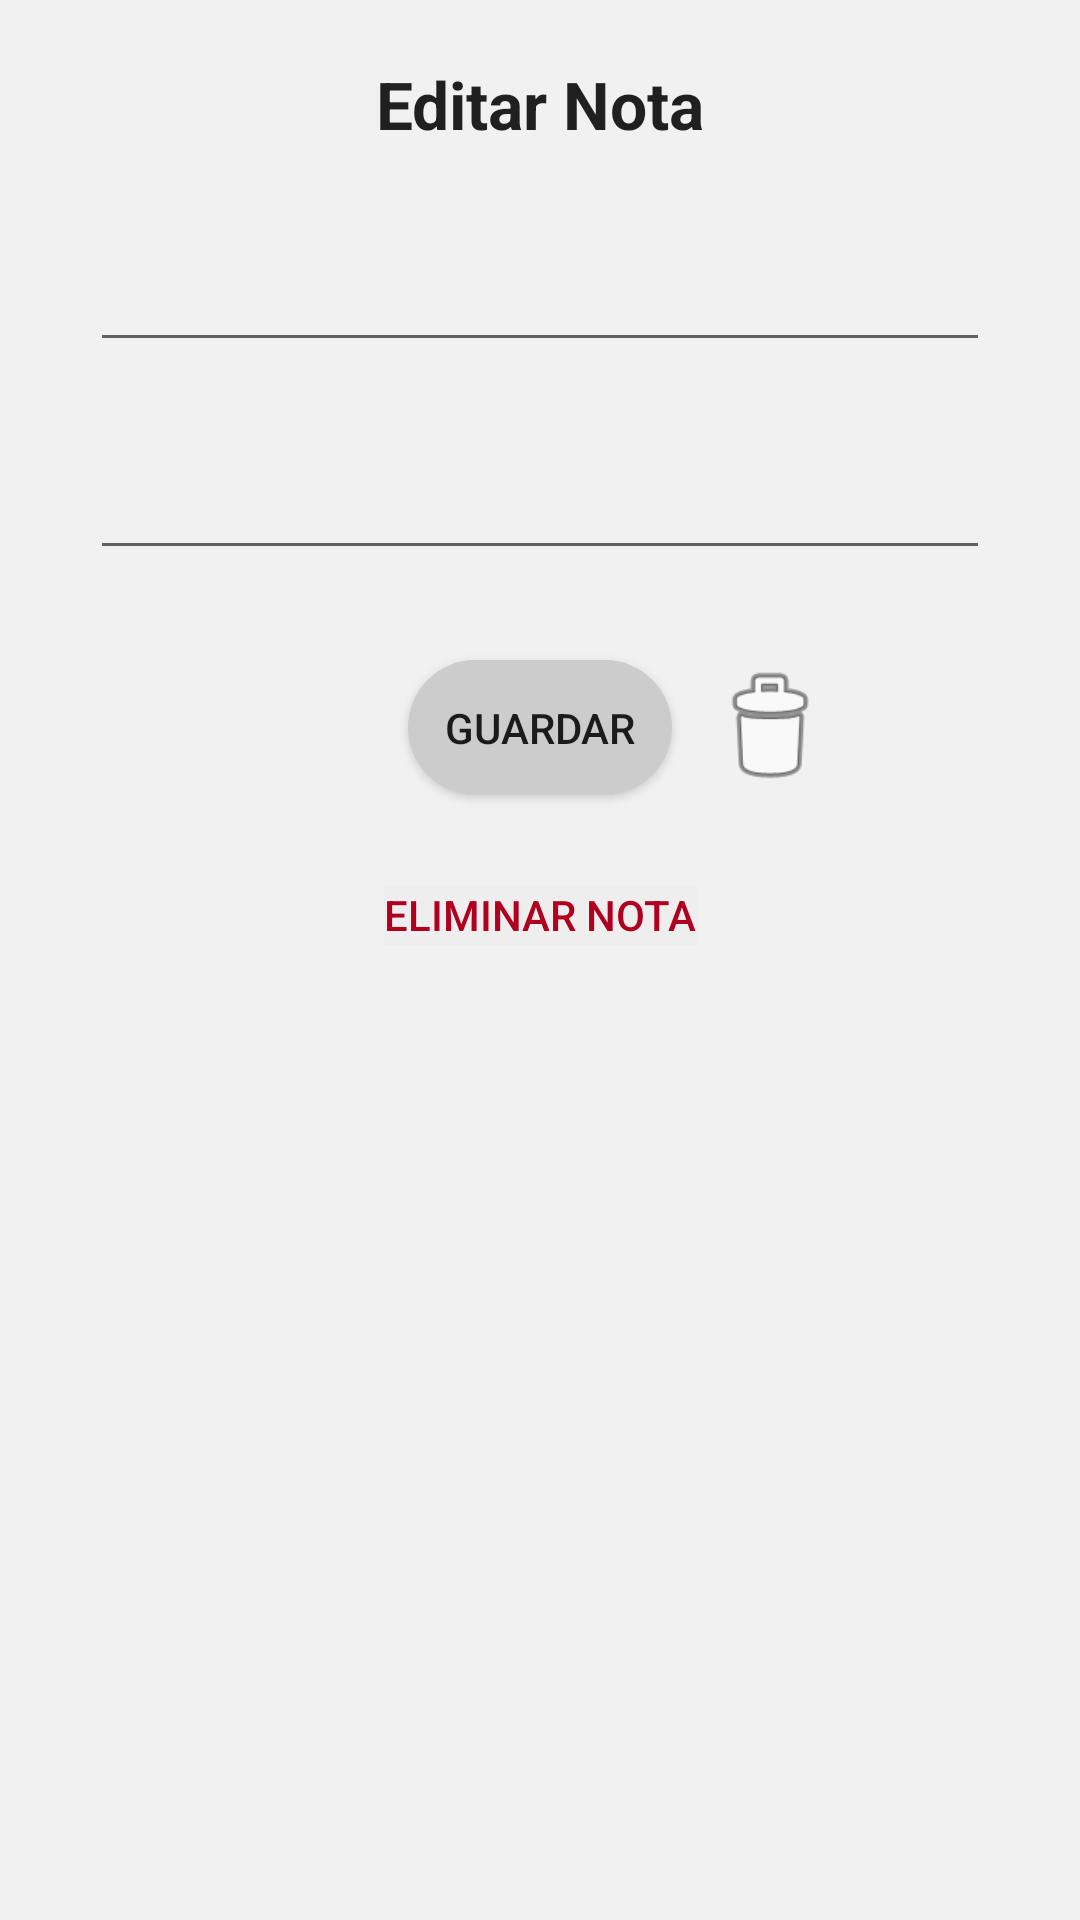

Icons on this 1080×1920 Android screen, each with the point to tap as [x,y]:
delete: [770,725]
